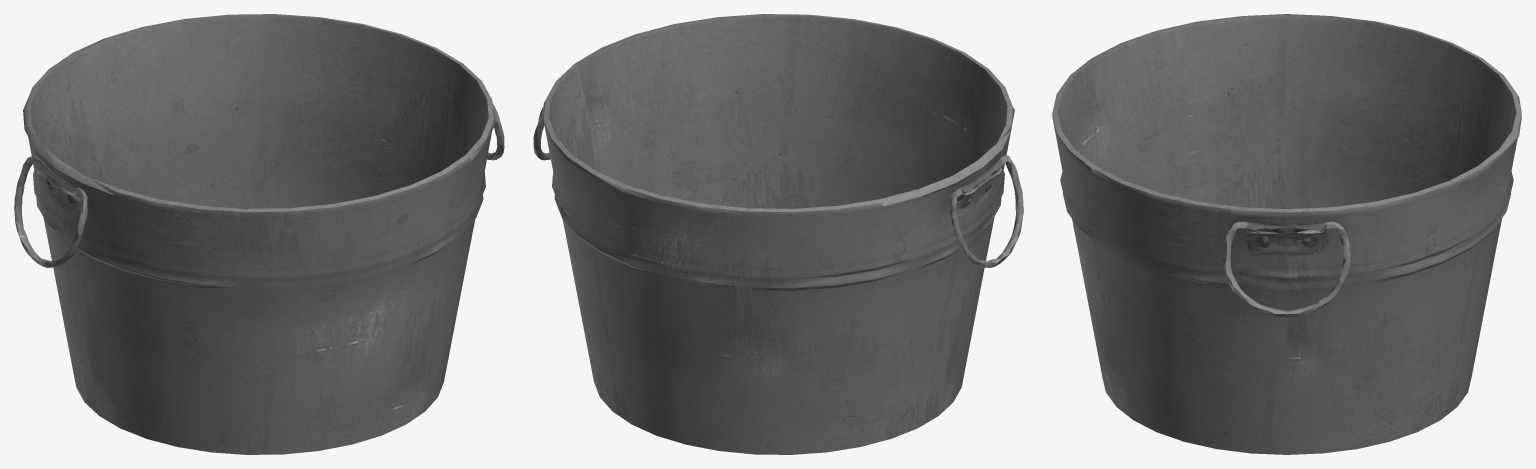
The model's file is mk_ramune_tub.glb.
3 renders of one model, left to right at view 1: azimuth 30°, elevation 25°; view 2: azimuth 150°, elevation 25°; view 3: azimuth 270°, elevation 25°, orthographic.
Visible parts, largest first — view 1: mesh; view 2: mesh; view 3: mesh.
Boxes of the visible parts, <box> form: mesh: <box>14,14,504,454</box>; mesh: <box>533,14,1023,454</box>; mesh: <box>1052,14,1521,454</box>.
Size of the model in its own units: 1.17 by 0.66 by 1.06.
Materials: 1 (1 with a texture image).
